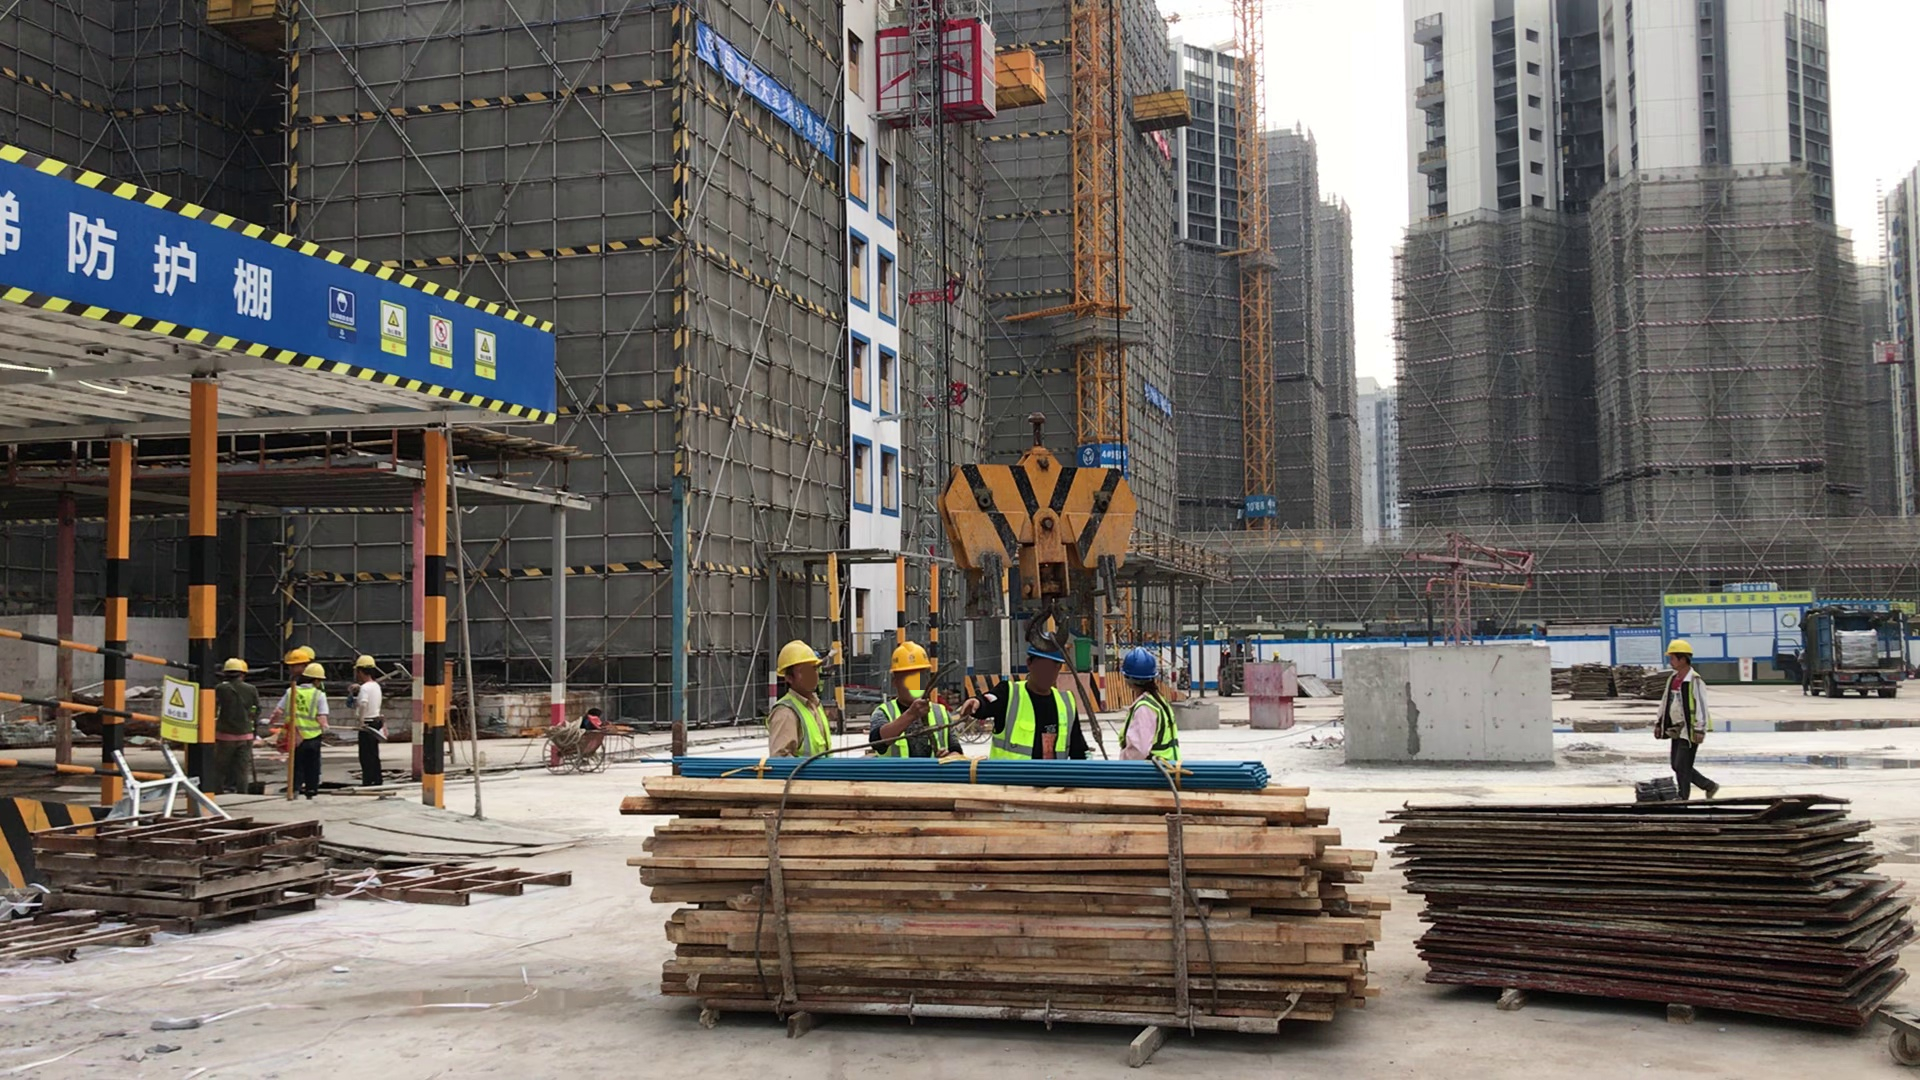board: (1393, 792, 1903, 1021)
handcart: (532, 709, 631, 773)
helmet: (766, 636, 819, 669), (890, 643, 935, 675), (1122, 651, 1159, 677), (1667, 640, 1694, 663), (223, 655, 252, 674), (304, 663, 328, 682), (284, 649, 309, 663), (353, 655, 380, 669)
hook: (947, 402, 1140, 636)
person: (989, 636, 1091, 764), (1658, 633, 1719, 800), (869, 641, 960, 750), (1108, 644, 1185, 761), (765, 639, 841, 757), (277, 643, 333, 801), (343, 651, 396, 786), (214, 655, 258, 792)
slogan: (693, 28, 841, 157), (327, 283, 504, 384), (153, 670, 200, 749)
vest: (1001, 681, 1078, 762), (872, 704, 950, 754), (775, 693, 831, 757), (1127, 694, 1178, 760), (281, 681, 329, 741)
wood: (634, 768, 1375, 1032)
